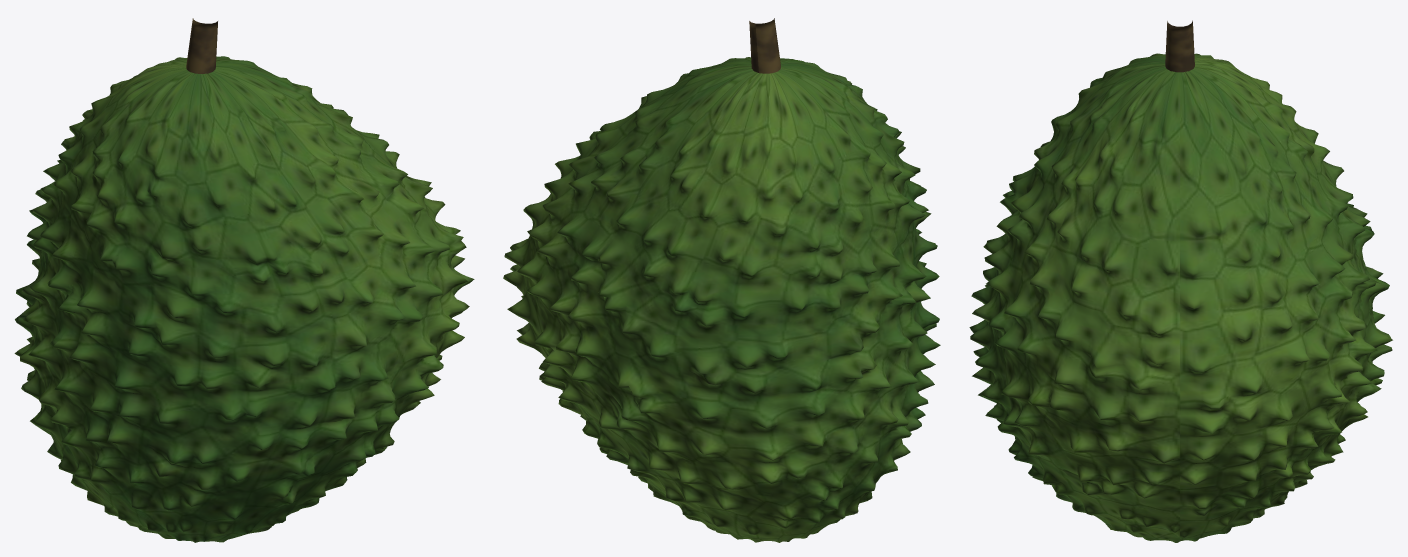
The model's file is corossol.glb.
3 renders of one model, left to right at view 1: azimuth 30°, elevation 25°; view 2: azimuth 150°, elevation 25°; view 3: azimuth 270°, elevation 25°, orthographic.
Parts seen in each view (by area): view 1: entier_peau, moitie_A_peau, moitie_B_peau, entier_extra0; view 2: entier_peau, moitie_B_peau, moitie_A_peau, entier_extra0; view 3: entier_peau, moitie_B_peau, moitie_A_peau, entier_extra0.
Part boxes in pixels (x1,y1,x2,y2): entier_peau: (14, 56, 474, 542); moitie_A_peau: (55, 64, 466, 542); moitie_B_peau: (16, 56, 425, 516); entier_extra0: (186, 18, 217, 73); entier_peau: (503, 57, 940, 542); moitie_B_peau: (503, 63, 913, 542); moitie_A_peau: (589, 57, 940, 502); entier_extra0: (749, 18, 780, 73); entier_peau: (969, 53, 1392, 542); moitie_B_peau: (1180, 54, 1392, 541); moitie_A_peau: (976, 54, 1179, 542); entier_extra0: (1165, 20, 1194, 72).
Size of the model in its own units: 0.1781 by 0.2204 by 0.1658.
Materials: 3 (3 with a texture image).
